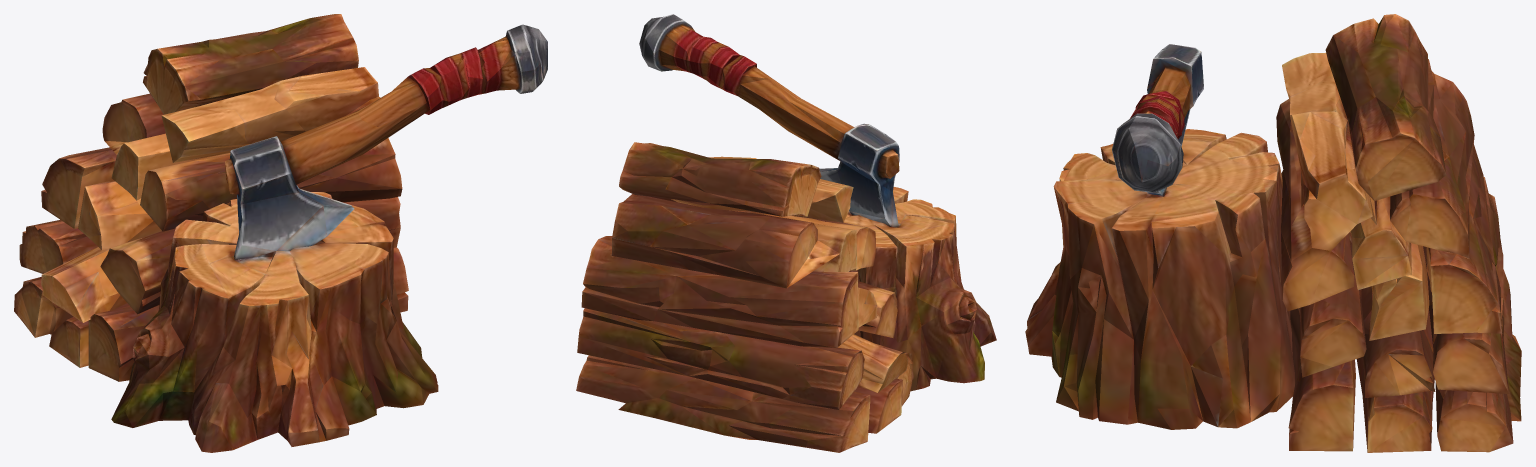
The model's file is prop_woodpile.glb.
3 views of the same model, side by side, from view 1: azimuth 30°, elevation 25°; view 2: azimuth 150°, elevation 25°; view 3: azimuth 270°, elevation 25° (orthographic). The views are drawn at different scales.
Visible parts, largest first — view 1: output_unwrapped; view 2: output_unwrapped; view 3: output_unwrapped.
Part boxes in pixels (left/top/right/bottom): output_unwrapped: left=14, top=14, right=547, bottom=452; output_unwrapped: left=576, top=14, right=996, bottom=452; output_unwrapped: left=1025, top=14, right=1521, bottom=452.
Bounding box in the file's own units: 1.9 × 1.38 × 1.71.
1 material, 1 textured.
